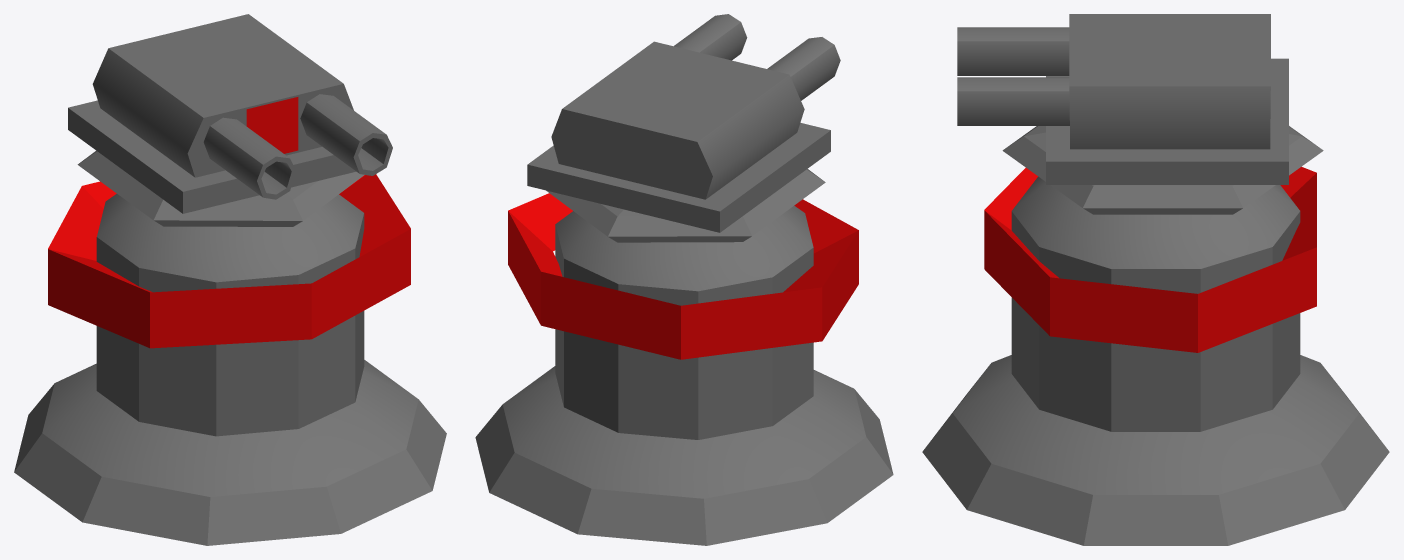
Rendered from Minion_Med.fbx.
The picture shows the model from 3 angles, left to right: view 1: azimuth 30°, elevation 25°; view 2: azimuth 150°, elevation 25°; view 3: azimuth 270°, elevation 25°; orthographic projection. The views are drawn at different scales.
Parts seen in each view (by area): view 1: Body1, Turret_Pivet, Body, Belt; view 2: Turret_Pivet, Body1, Body, Belt; view 3: Turret_Pivet, Body1, Body, Belt.
Boxes of the visible parts, left/top/right/bottom form: Body1: left=14, top=360, right=446, bottom=545; Turret_Pivet: left=68, top=14, right=392, bottom=226; Body: left=96, top=194, right=364, bottom=436; Belt: left=48, top=97, right=410, bottom=348; Turret_Pivet: left=527, top=14, right=840, bottom=242; Body1: left=475, top=366, right=893, bottom=545; Body: left=555, top=205, right=813, bottom=439; Belt: left=508, top=193, right=858, bottom=359; Turret_Pivet: left=957, top=14, right=1323, bottom=214; Body1: left=922, top=355, right=1389, bottom=545; Body: left=1011, top=176, right=1300, bottom=431; Belt: left=984, top=166, right=1316, bottom=352.
Bounding box in the file's own units: 1.33 × 1.35 × 1.4.
